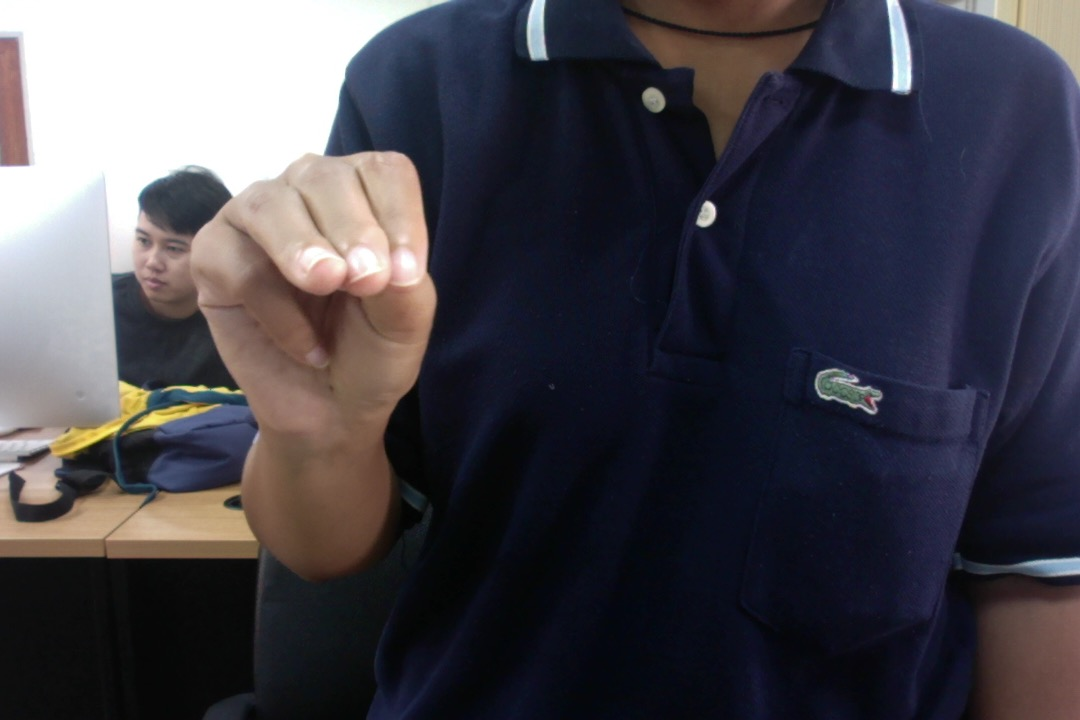mor: (184, 139, 444, 451)
